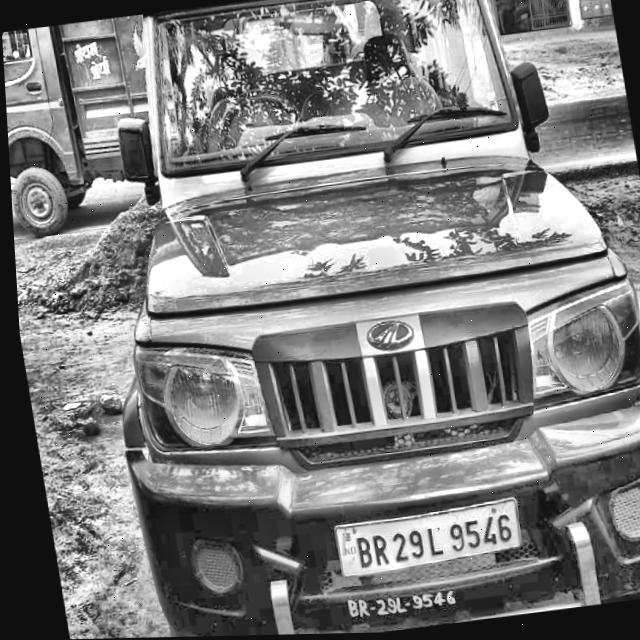light_vehicle: (53, 0, 640, 639)
